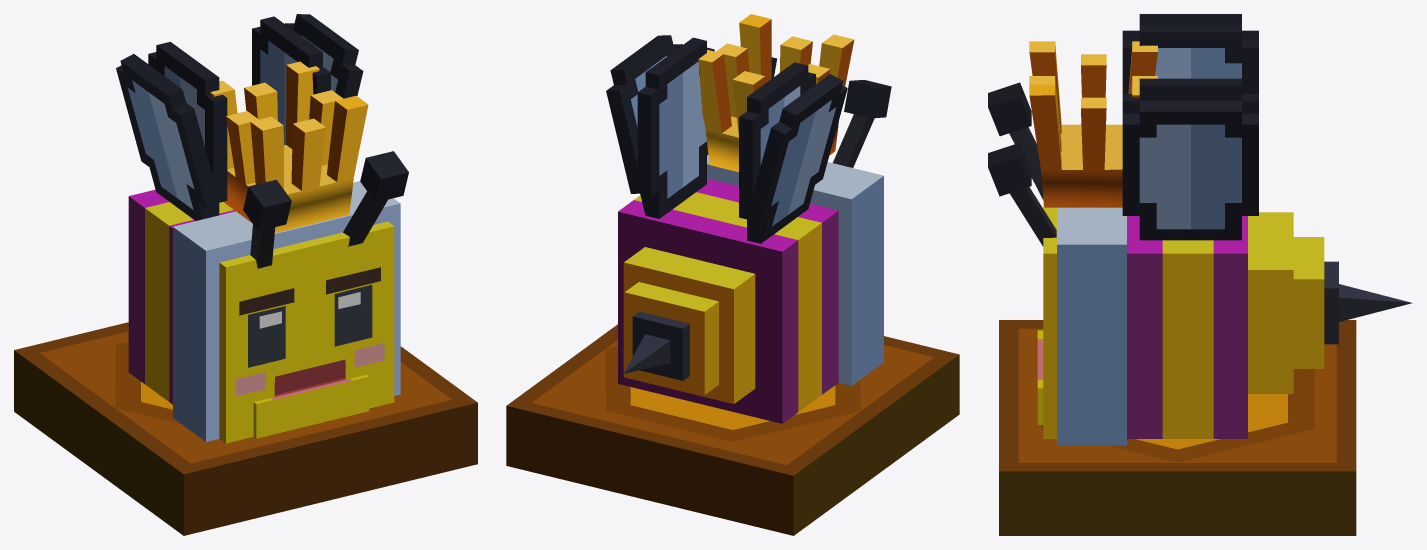
Rendered from Tower_Bee_LVL6.fbx.
3 renders of one model, left to right at view 1: azimuth 30°, elevation 25°; view 2: azimuth 150°, elevation 25°; view 3: azimuth 270°, elevation 25°, orthographic. The views are drawn at different scales.
Visible parts, largest first — view 1: Base, Bee, Crown, Collar, Wing_R1, Wing_R, Jaw, Wing_L, Wing_L1; view 2: Base, Bee, Stinger, Collar, Wing_L, Crown, Wing_R1, Wing_R, Wing_L1; view 3: Base, Bee, Wing_L1, Collar, Stinger, Crown, Wing_R, Wing_L, Wing_R1, Jaw.
Boxes of the visible parts, bbox=[...] form: Base: bbox=[14, 322, 477, 535]; Bee: bbox=[128, 151, 408, 443]; Crown: bbox=[210, 61, 368, 232]; Collar: bbox=[173, 181, 400, 441]; Wing_R1: bbox=[116, 54, 218, 220]; Wing_R: bbox=[148, 41, 227, 218]; Jaw: bbox=[253, 374, 369, 438]; Wing_L: bbox=[252, 16, 330, 145]; Wing_L1: bbox=[285, 14, 363, 98]; Base: bbox=[506, 324, 959, 535]; Bee: bbox=[618, 57, 891, 423]; Stinger: bbox=[623, 247, 755, 403]; Collar: bbox=[707, 154, 883, 385]; Wing_L: bbox=[637, 37, 714, 218]; Crown: bbox=[698, 14, 854, 172]; Wing_R1: bbox=[748, 74, 847, 243]; Wing_R: bbox=[739, 62, 815, 242]; Wing_L1: bbox=[606, 35, 682, 217]; Base: bbox=[999, 320, 1356, 535]; Bee: bbox=[988, 82, 1247, 438]; Wing_L1: bbox=[1122, 100, 1258, 240]; Collar: bbox=[1057, 207, 1126, 445]; Stinger: bbox=[1248, 212, 1412, 393]; Crown: bbox=[1029, 41, 1157, 207]; Wing_R: bbox=[1122, 25, 1258, 93]; Wing_L: bbox=[1122, 78, 1258, 113]; Wing_R1: bbox=[1122, 14, 1258, 40]; Jaw: bbox=[1037, 330, 1043, 424].
Size of the model in its own units: 100 by 125 by 119.
